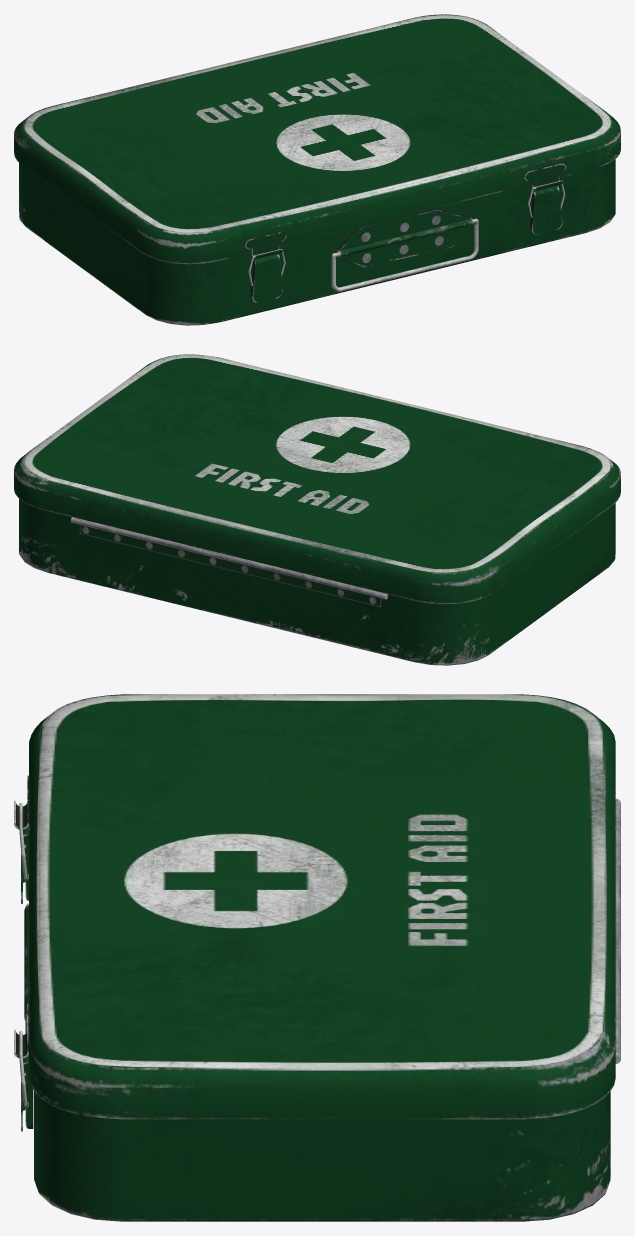
The model's file is medical_box.glb.
The picture shows the model from 3 angles, top to bottom: view 1: azimuth 30°, elevation 25°; view 2: azimuth 150°, elevation 25°; view 3: azimuth 270°, elevation 25°; orthographic projection. The views are drawn at different scales.
Parts seen in each view (by area): view 1: medical_box_lid, medical_box, medical_box_latch, medical_box_handle; view 2: medical_box_lid, medical_box; view 3: medical_box_lid, medical_box.
Boxes of the visible parts, box(x1,y1,x2,y2) form: medical_box_lid: box(14, 14, 620, 264); medical_box: box(19, 159, 615, 325); medical_box_latch: box(251, 185, 562, 302); medical_box_handle: box(331, 218, 478, 291); medical_box_lid: box(14, 354, 620, 603); medical_box: box(19, 499, 615, 665); medical_box_lid: box(14, 694, 615, 1119); medical_box: box(24, 798, 620, 1221).
Bounding box in the file's own units: 0.5255 × 0.0975 × 0.3502.
Materials: 1 (1 with a texture image).
